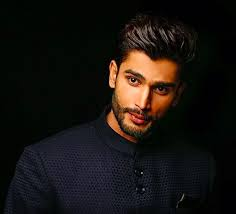Indian_Male: (118, 38, 178, 132)
